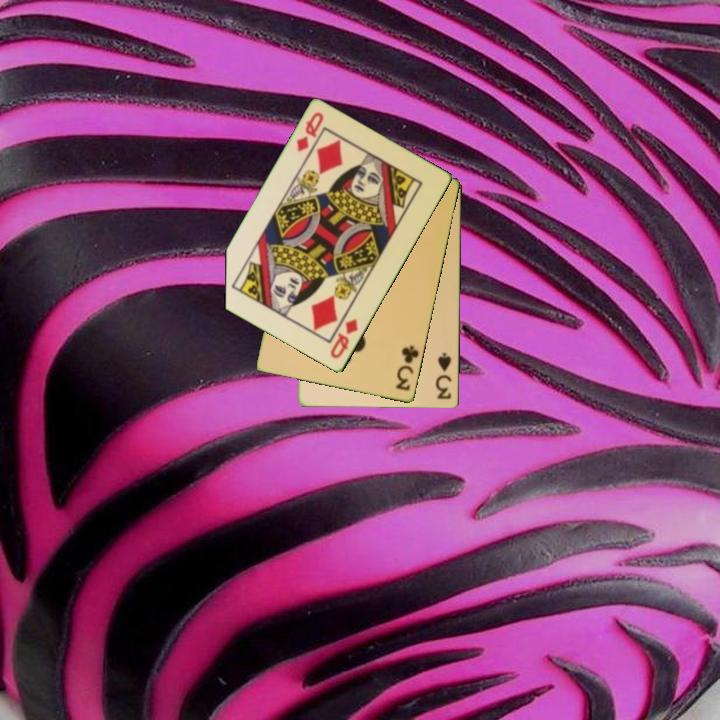3c: (392, 342, 422, 394)
3s: (432, 349, 455, 402)
Qd: (327, 315, 361, 362), (293, 109, 327, 155)
